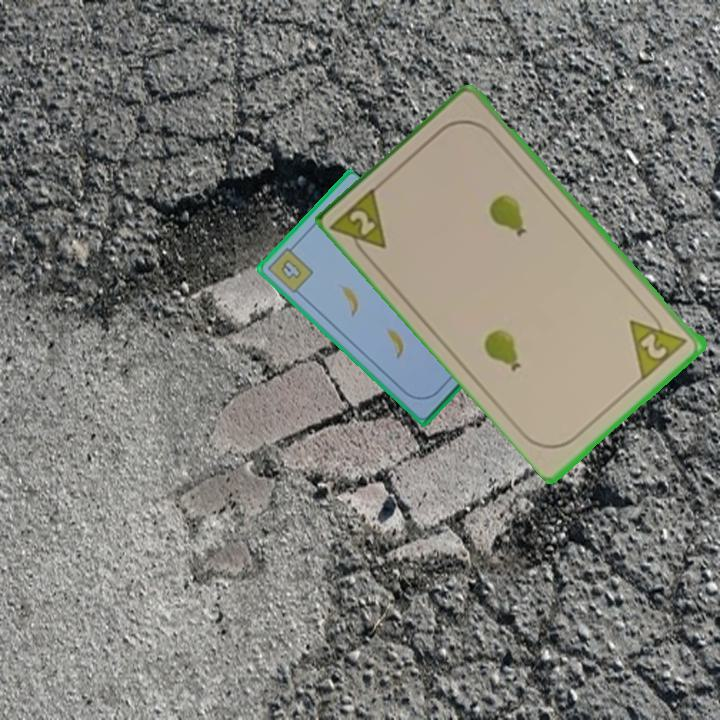2p: (329, 182, 391, 265), (626, 303, 691, 382)
4b: (264, 240, 316, 296)
